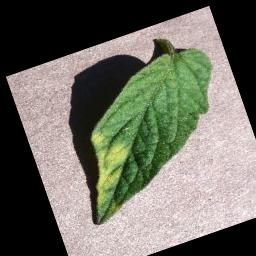Leaf_Mold: (73, 121, 144, 206)
